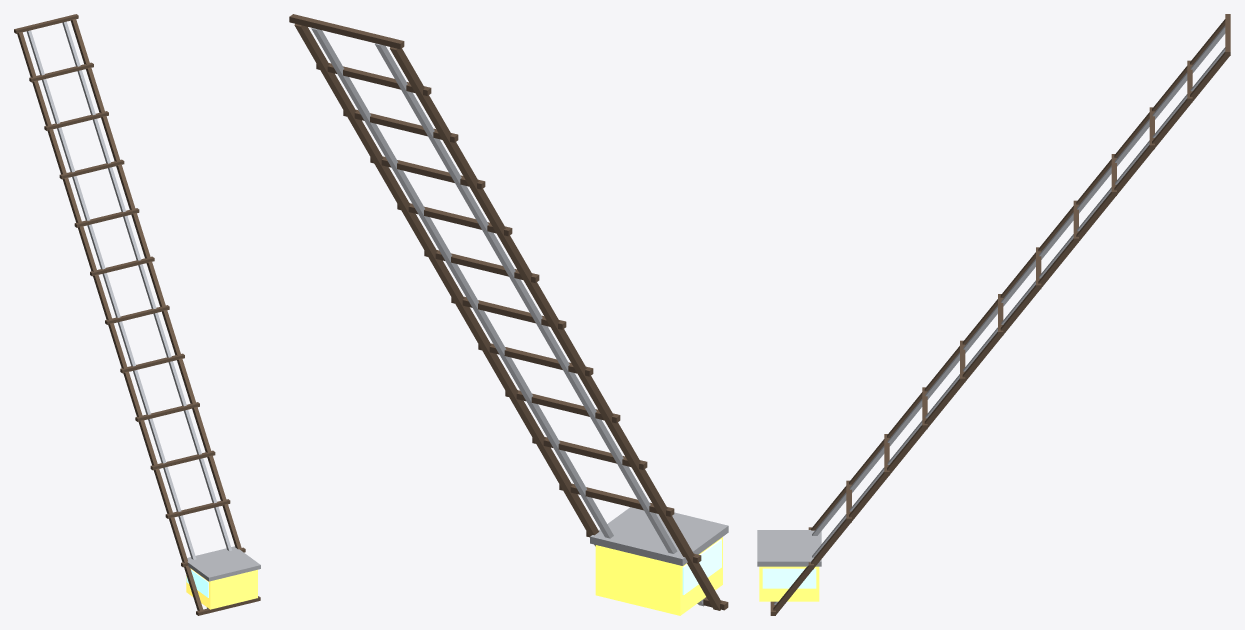
File: 09_leg_elevator.glb
The picture shows the model from 3 angles, left to right: view 1: azimuth 30°, elevation 25°; view 2: azimuth 150°, elevation 25°; view 3: azimuth 270°, elevation 25°; orthographic projection. The views are drawn at different scales.
Visible parts, largest first — view 1: leg_elevator_track_irondark, leg_elevator_track_steel, leg_elevator_car_signal, leg_elevator_car_steel; view 2: leg_elevator_track_irondark, leg_elevator_track_steel, leg_elevator_car_signal, leg_elevator_car_steel, leg_elevator_car_glass_nocol; view 3: leg_elevator_track_irondark, leg_elevator_track_steel, leg_elevator_car_steel, leg_elevator_car_signal, leg_elevator_car_glass_nocol.
Part boxes in pixels (box(x1,y1,x2,y2)): leg_elevator_track_irondark: box(14, 14, 260, 615); leg_elevator_track_steel: box(26, 21, 231, 608); leg_elevator_car_signal: box(186, 568, 257, 609); leg_elevator_car_steel: box(187, 546, 260, 581); leg_elevator_track_irondark: box(289, 14, 728, 610); leg_elevator_track_steel: box(311, 28, 704, 606); leg_elevator_car_signal: box(595, 537, 722, 615); leg_elevator_car_steel: box(590, 507, 728, 565); leg_elevator_car_glass_nocol: box(682, 539, 721, 594); leg_elevator_track_irondark: box(770, 14, 1230, 615); leg_elevator_track_steel: box(774, 25, 1225, 604); leg_elevator_car_steel: box(757, 530, 821, 566); leg_elevator_car_signal: box(759, 566, 819, 601); leg_elevator_car_glass_nocol: box(762, 568, 816, 588).
Size of the model in its own units: 8.4 by 58.18 by 44.15.
